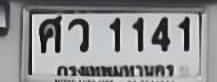1: (131, 16, 144, 52), (108, 17, 120, 52), (178, 16, 189, 51)
4: (151, 16, 169, 51)
A37: (68, 18, 90, 53)
A38: (39, 15, 62, 53)
BKK: (54, 63, 176, 79)
